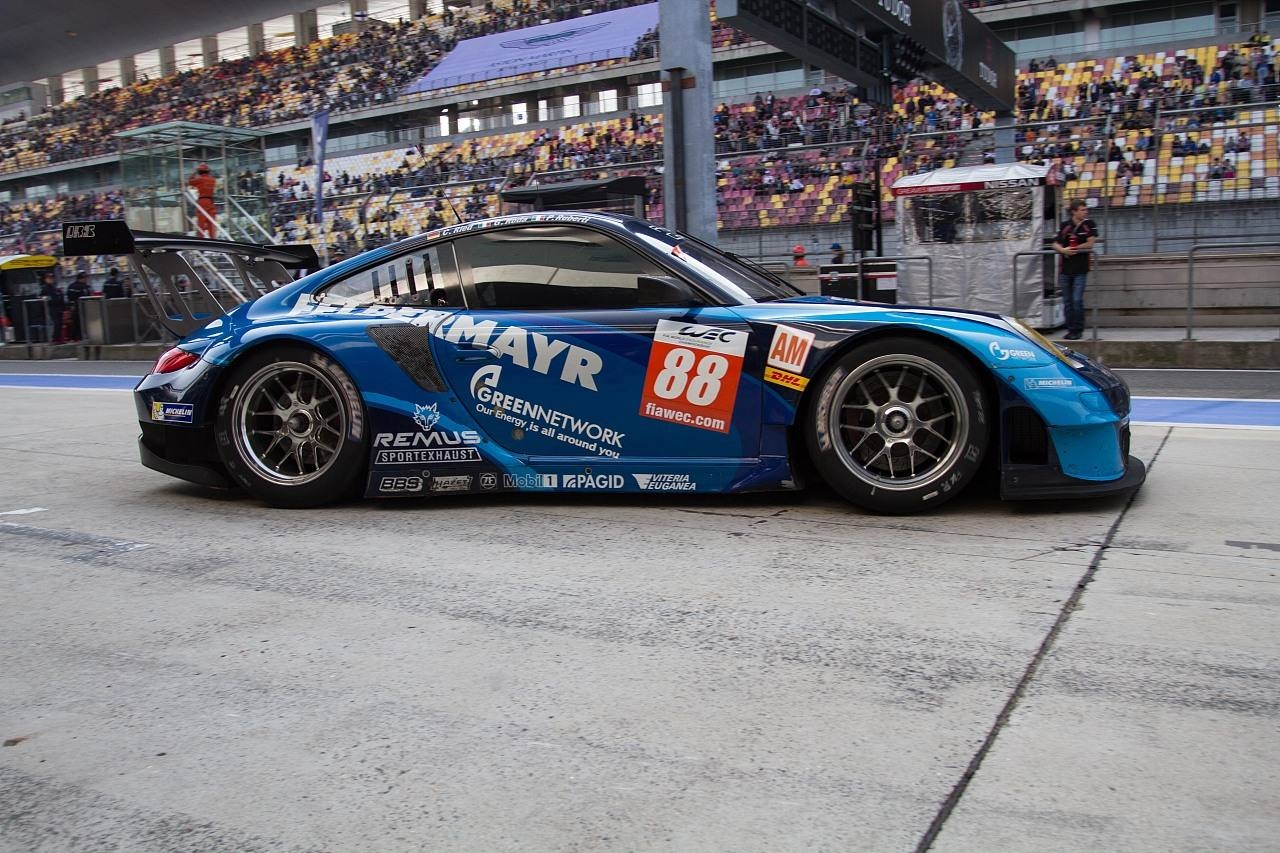racing car: (130, 227, 1146, 512)
